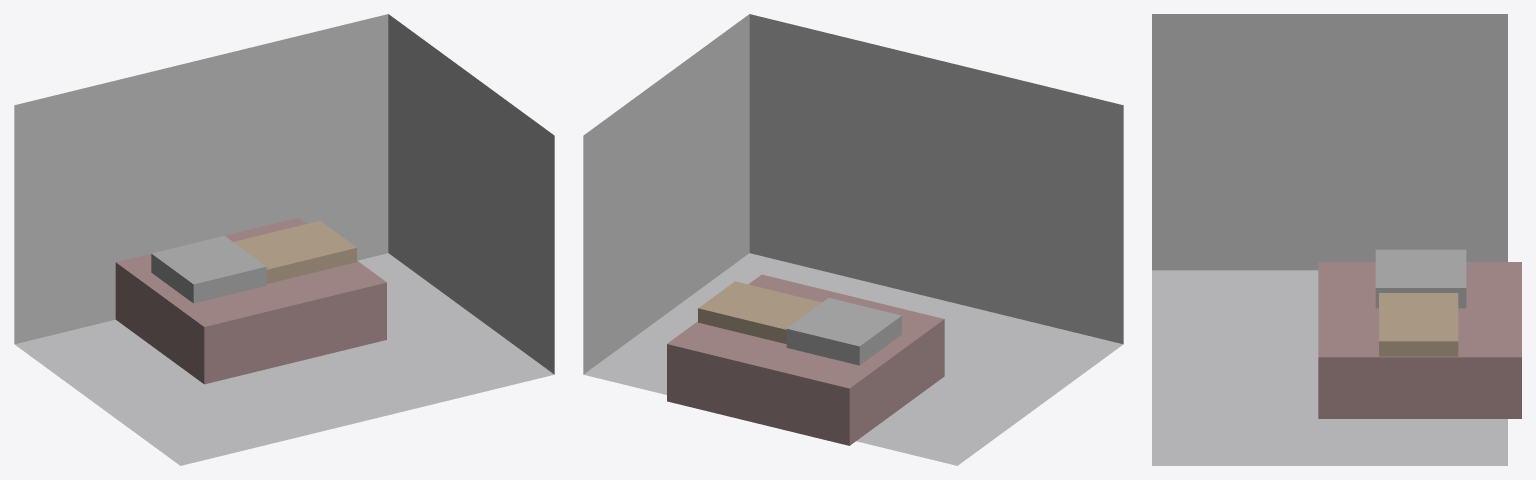
The model's file is current_layout.glb.
The picture shows the model from 3 angles, left to right: view 1: azimuth 30°, elevation 25°; view 2: azimuth 150°, elevation 25°; view 3: azimuth 270°, elevation 25°; orthographic projection. The views are drawn at different scales.
Parts seen in each view (by area): view 1: room, bed, dustbin, desk; view 2: room, bed, dustbin, desk; view 3: room, bed, desk, dustbin.
Boxes of the visible parts, <box> form: room: <box>14,14,554,465</box>; bed: <box>115,217,386,384</box>; dustbin: <box>151,235,266,303</box>; desk: <box>233,221,356,283</box>; room: <box>583,14,1123,465</box>; bed: <box>667,274,944,445</box>; dustbin: <box>786,298,901,365</box>; desk: <box>698,281,821,343</box>; room: <box>1152,14,1507,465</box>; bed: <box>1318,262,1521,418</box>; desk: <box>1379,293,1458,356</box>; dustbin: <box>1375,249,1466,308</box>.
Size of the model in its own units: 4.09 by 2.5 by 3.27.
